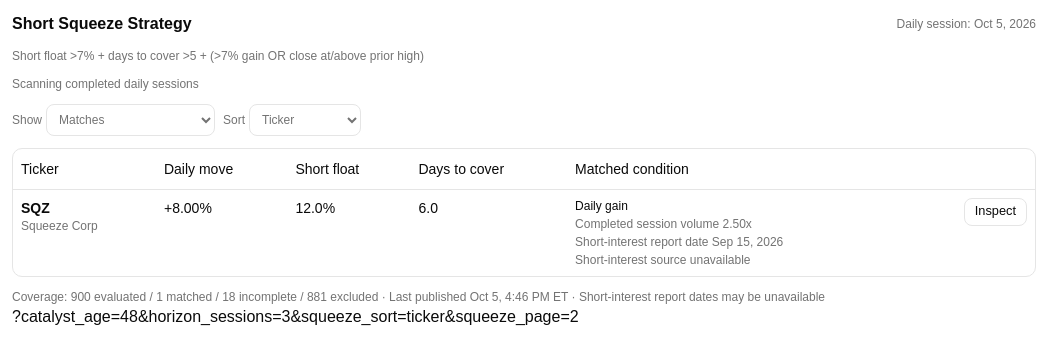
it: changing the status keeps other Discover params and resets only the squeeze page
Select "Incomplete data" in the dropdown named "Short squeeze status" at point(130, 120), box [46,104,215,136]
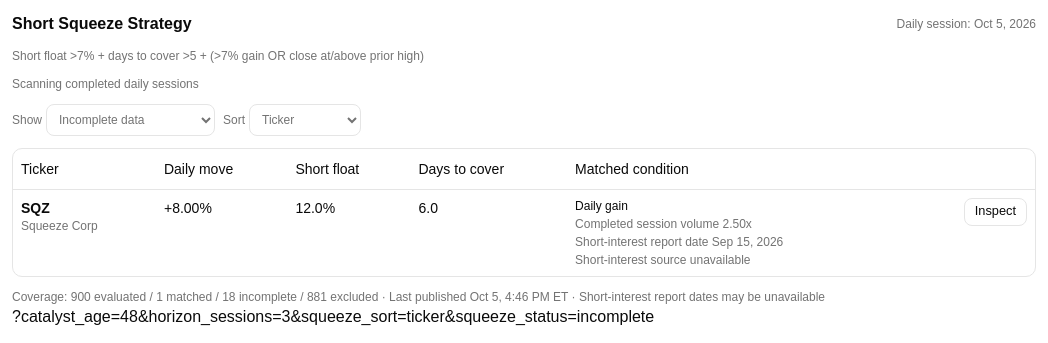
Expected: the text with test id "location" shows "catalyst_age=48", [12,308,654,324]
Now the text with test id "location" shows "squeeze_status=incomplete", box [12,308,654,324]
Now the text with test id "location" no longer shows "squeeze_page"
